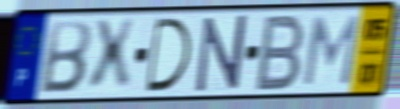B: (252, 12, 308, 94), (37, 18, 94, 96)
D: (144, 16, 194, 95)
M: (300, 13, 362, 89)
N: (194, 12, 249, 95)
X: (86, 16, 138, 96)
